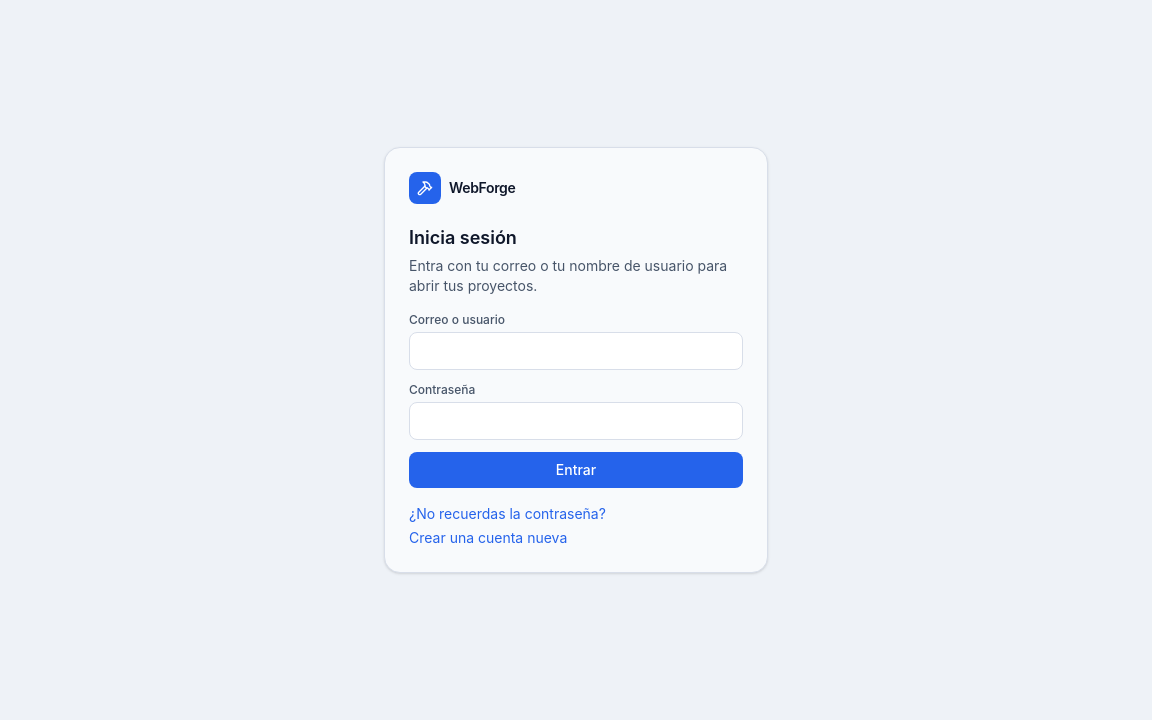
Test: LoginPage › envía las credenciales y entra en el panel
Type "ana@dominio.dev" into the field labelled "Correo o usuario" at (576, 351), box x1=409 y1=332 x2=743 y2=370
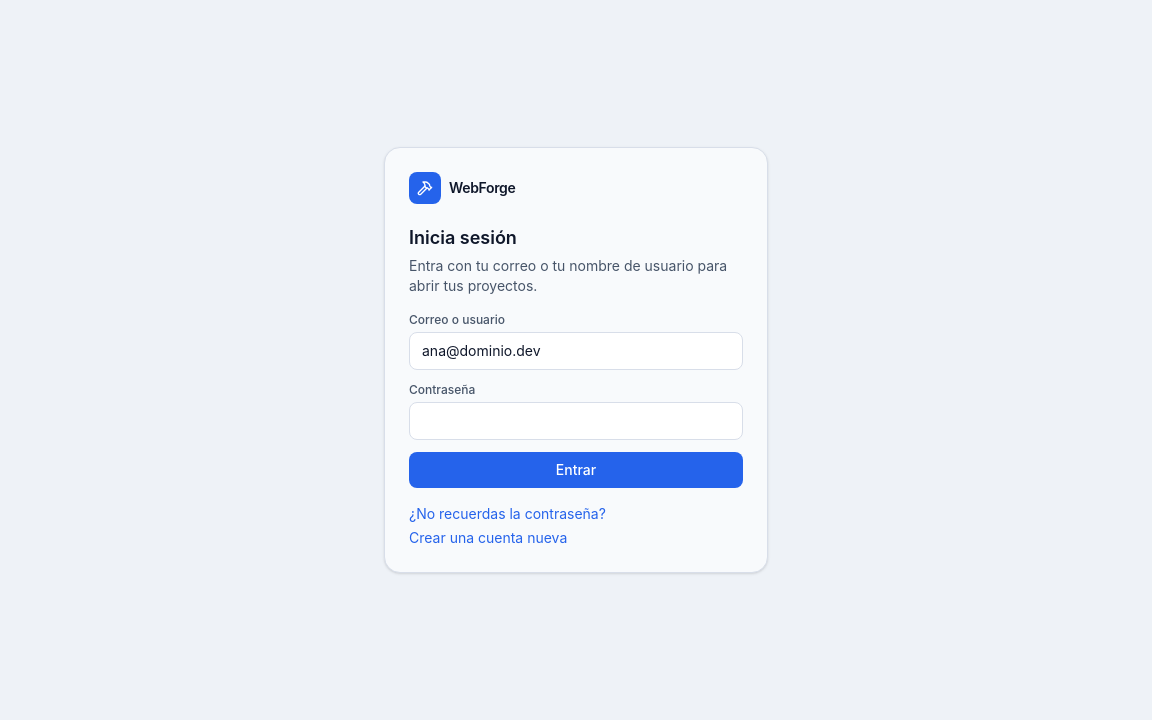
Type "S3creta-fuerte" into the password field labelled "Contraseña" at (576, 421), box x1=409 y1=402 x2=743 y2=440
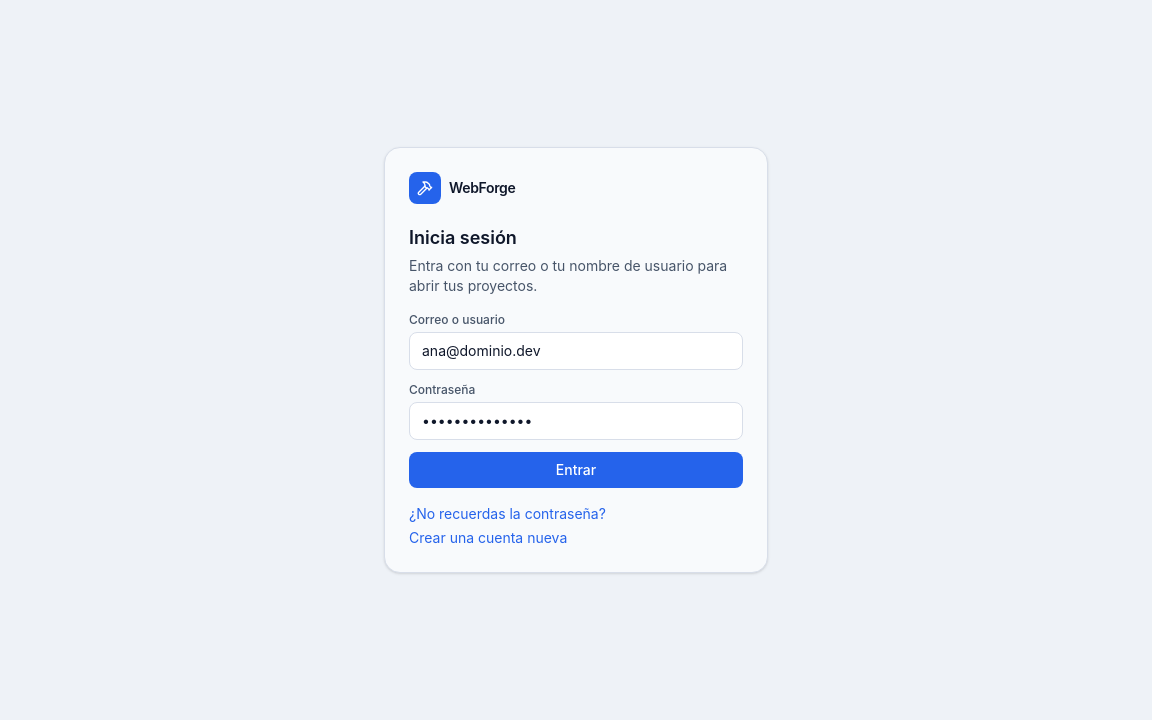
Submit the form named "Inicia sesión", box x1=409 y1=312 x2=743 y2=488
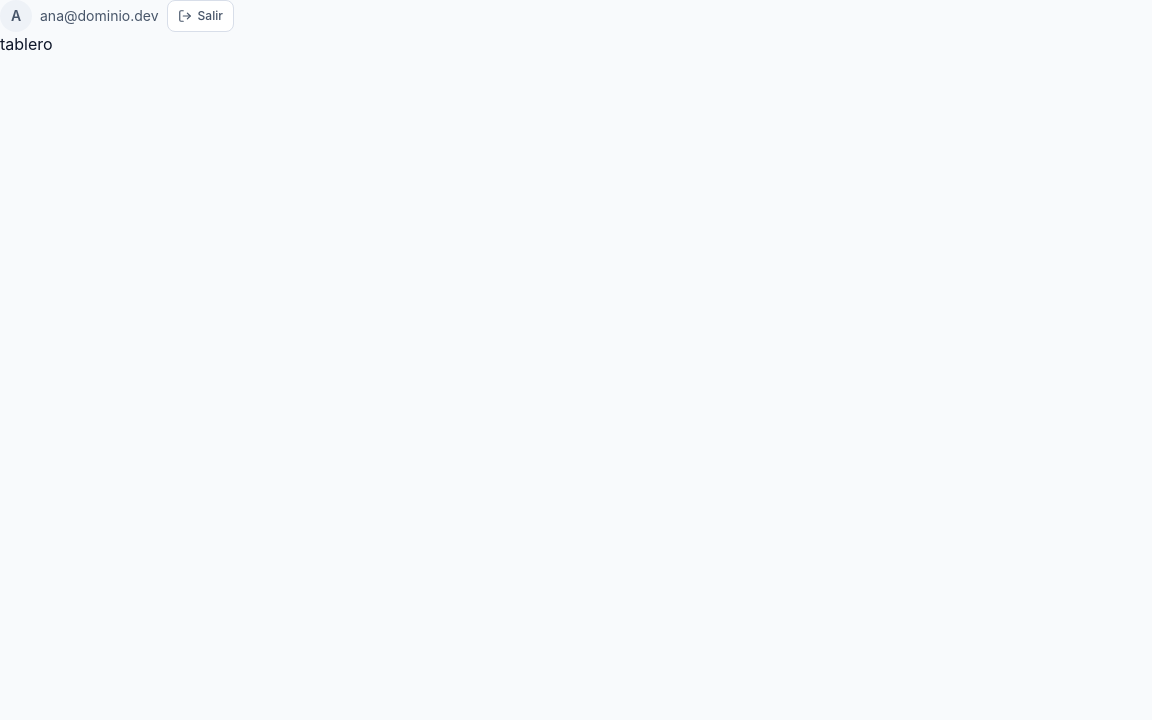
Now the text "tablero" is shown, box x1=0 y1=34 x2=53 y2=54
